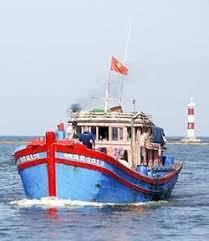Ship: (16, 107, 183, 204)
